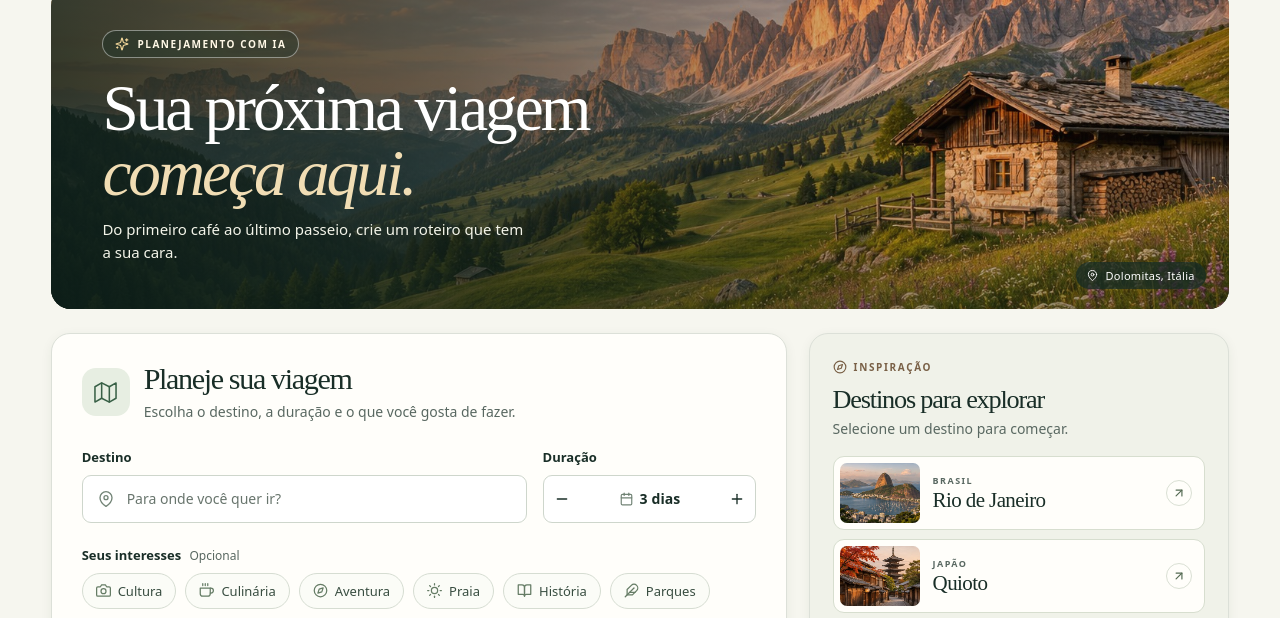
Test case: a rate-limited request shows an error and can be retried
Type "Salvador" into the field labelled "Destino". click: (320, 499)
box: [115,478,526,520]
(page scrolled)
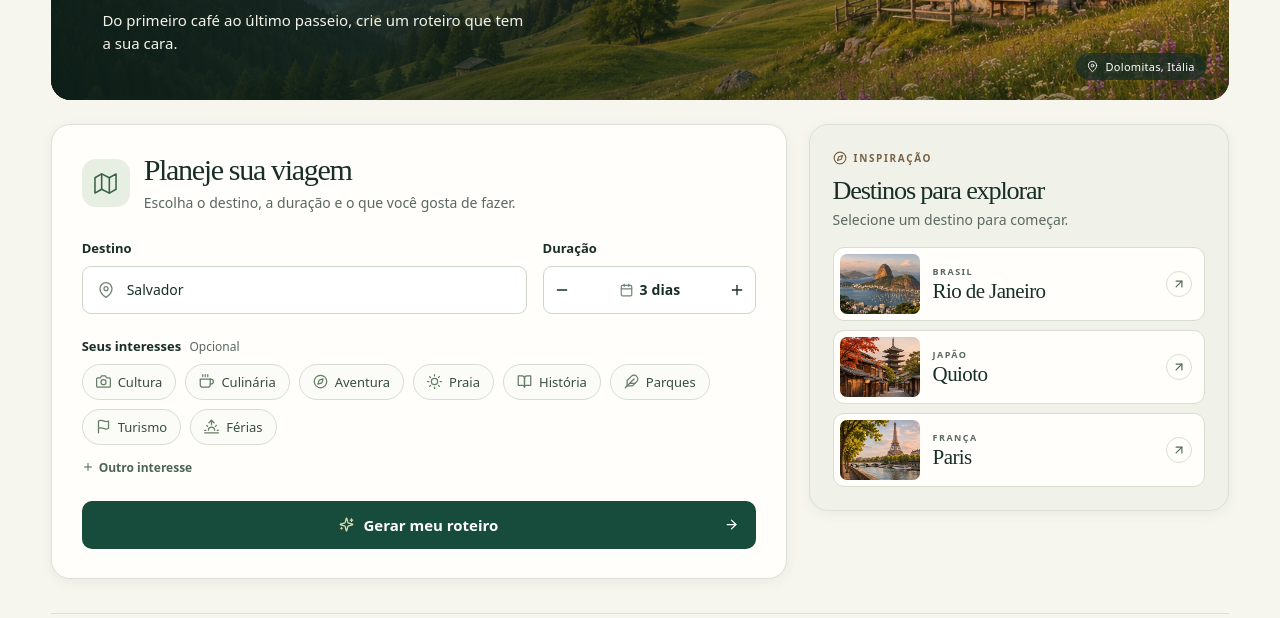
Click the button "Gerar meu roteiro". click: (419, 525)
box: [82,501,756,549]
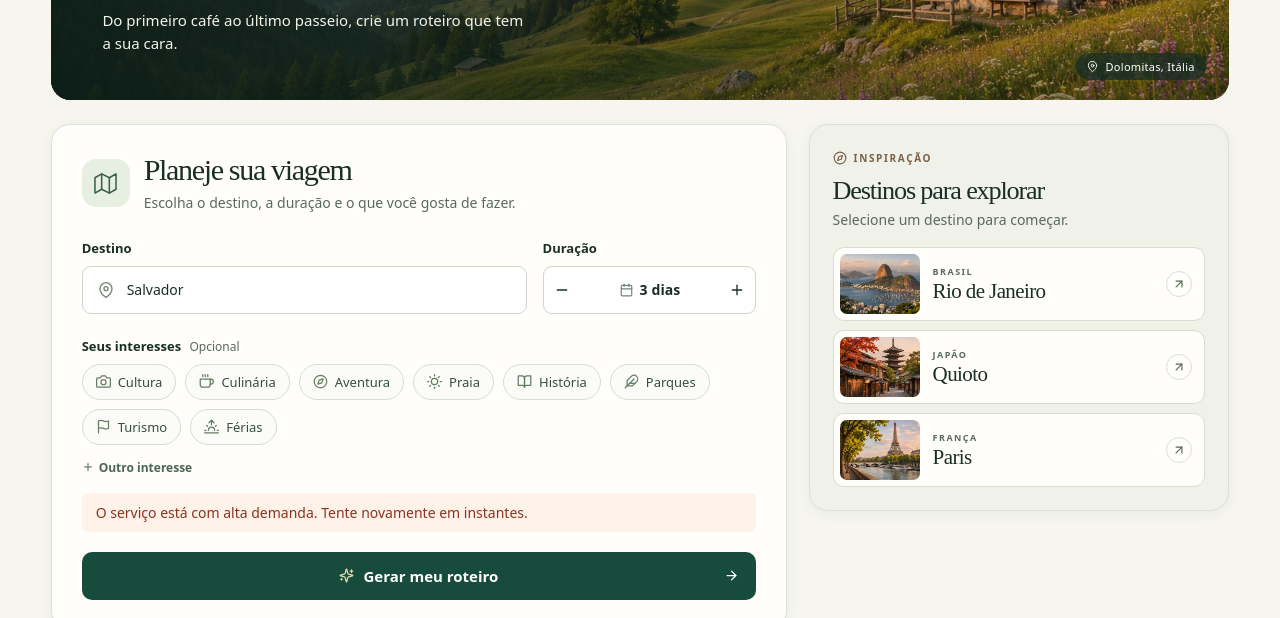
Expected: the button "Gerar meu roteiro" is enabled, [82,552,756,600]
Expected: the message shows "alta demanda", [96,503,528,522]
